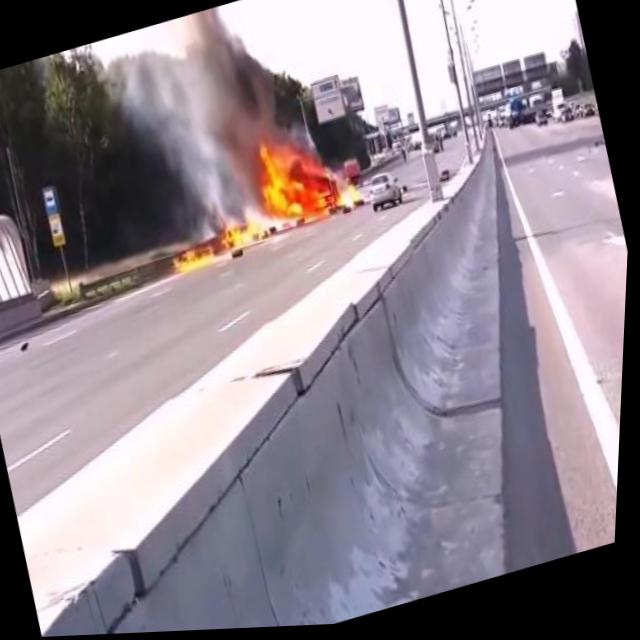fire: (239, 117, 364, 239), (170, 243, 222, 279), (216, 221, 261, 256)
